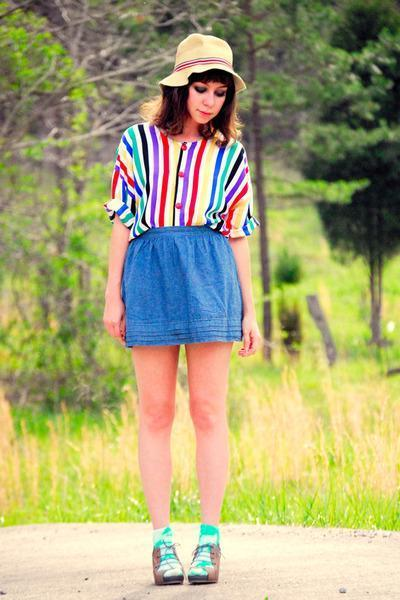short sleeve shirt: (104, 123, 262, 238)
skirt: (107, 226, 247, 354)
